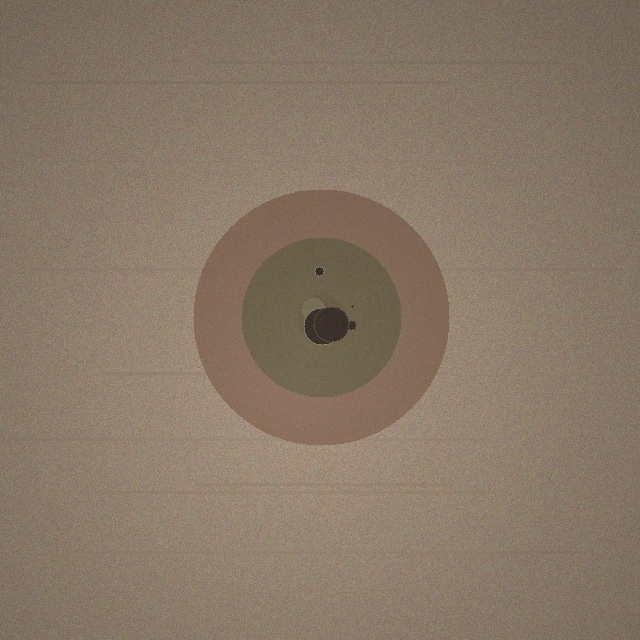shrinkage: (193, 189, 449, 445)
